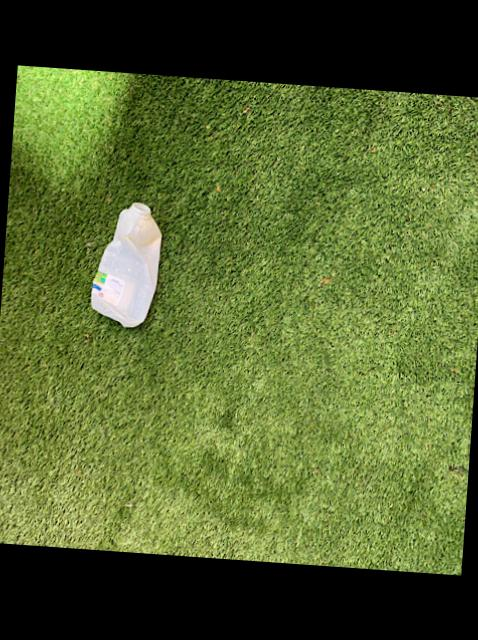plastic: (89, 201, 158, 325)
